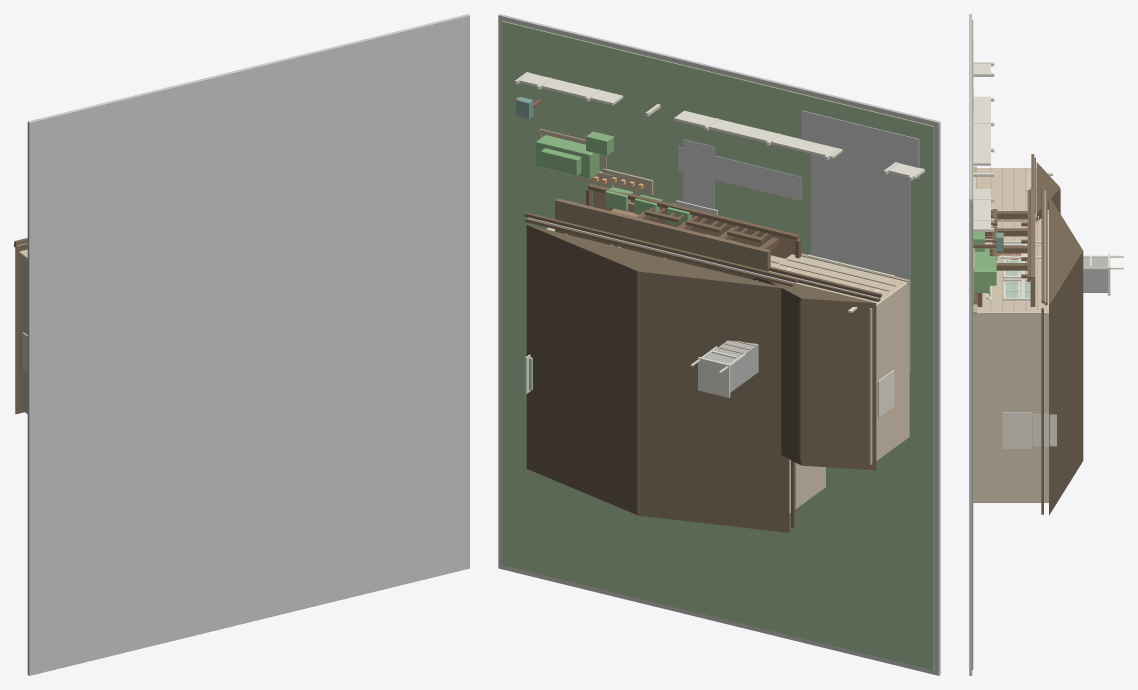
File: personalhouse_craftsman.fbx
3 renders of one model, left to right at view 1: azimuth 30°, elevation 25°; view 2: azimuth 150°, elevation 25°; view 3: azimuth 270°, elevation 25°, orthographic. The views are drawn at different scales.
Visible parts, largest first — view 1: GroundBase, Garage_Left, Roof_DarkBrown_Garage; view 2: YardGrass, Roof_DarkBrown_Main, Roof_DarkBrown_Garage, Driveway_Left, GroundBase, Garage_Left, PorchRoofBase, Driveway_Apron, Walkway_Join, FrontFence_MidSection, FrontPorch, Roof_Overhang_Front_Trim (+11 smaller); view 3: MainBody_TanSiding, Roof_DarkBrown_Main, GroundBase, Garage_Left, YardGrass, FrontFence_MidSection, SideWindow_Right_FrameOuter, Chimney_Stone, Roof_DarkBrown_Garage, SideWindow_Right_Upper_FrameOuter, PorchRoofBase, RightFront_Hedge_Base (+10 smaller).
Boxes of the visible parts, x1,y1,x2,y2 form: GroundBase: (27, 14, 469, 675); Garage_Left: (19, 249, 27, 413); Roof_DarkBrown_Garage: (15, 245, 27, 414); YardGrass: (502, 21, 934, 670); Roof_DarkBrown_Main: (526, 225, 789, 532); Roof_DarkBrown_Garage: (753, 277, 876, 470); Driveway_Left: (810, 129, 910, 370); GroundBase: (498, 14, 940, 675); Garage_Left: (756, 254, 909, 464); PorchRoofBase: (555, 198, 770, 279); Driveway_Apron: (801, 110, 919, 178); Walkway_Join: (678, 146, 801, 200); FrontFence_MidSection: (674, 110, 842, 158); FrontPorch: (593, 191, 799, 258); Roof_Overhang_Front_Trim: (524, 212, 797, 282); MainBody_TanSiding: (973, 213, 1048, 502); Roof_DarkBrown_Main: (1049, 198, 1083, 515); GroundBase: (969, 14, 972, 675); Garage_Left: (977, 168, 1038, 221); YardGrass: (972, 20, 973, 669); FrontFence_MidSection: (973, 96, 990, 165); SideWindow_Right_FrameOuter: (1002, 412, 1032, 448); Chimney_Stone: (1083, 257, 1107, 292); Roof_DarkBrown_Garage: (1036, 162, 1060, 222); SideWindow_Right_Upper_FrameOuter: (1033, 414, 1056, 446); PorchRoofBase: (1030, 187, 1035, 306); RightFront_Hedge_Base: (974, 249, 989, 292).
Size of the model in its own units: 1500 by 1800 by 528.
